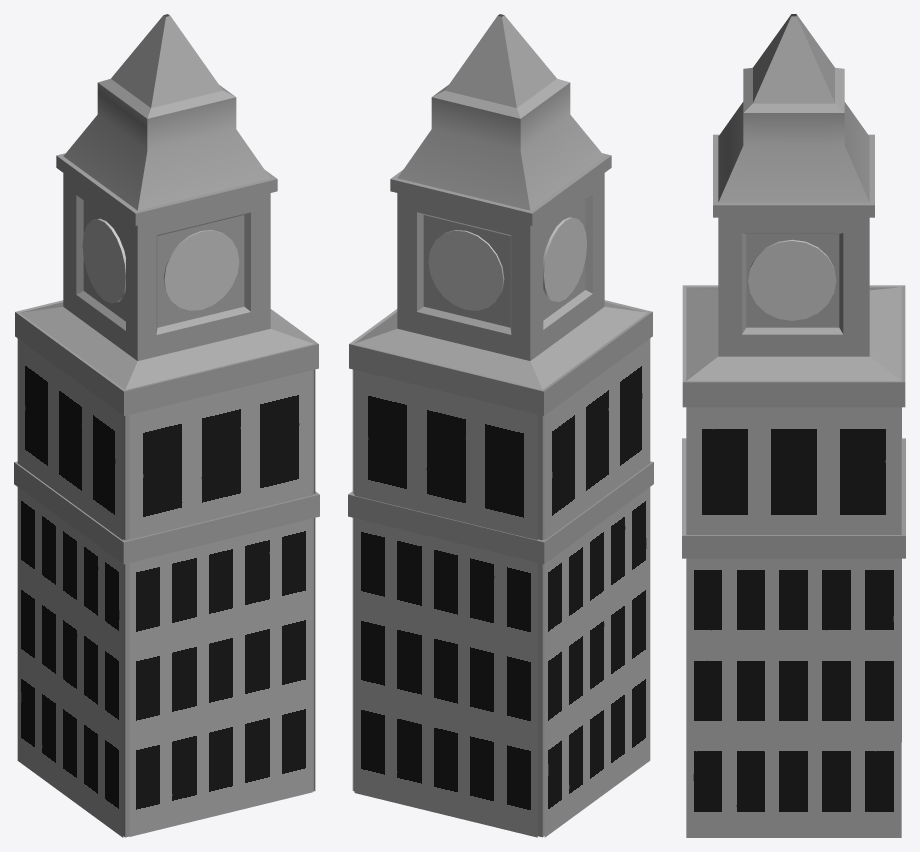
The model's file is Clocktower.fbx.
3 views of the same model, side by side, from view 1: azimuth 30°, elevation 25°; view 2: azimuth 150°, elevation 25°; view 3: azimuth 270°, elevation 25° (orthographic).
Parts seen in each view (by area): view 1: pCube244; view 2: pCube244; view 3: pCube244.
Boxes of the visible parts, <box> form: pCube244: <box>14,14,319,837</box>; pCube244: <box>348,14,653,837</box>; pCube244: <box>682,14,905,837</box>.
Size of the model in its own units: 27.59 by 102 by 26.72.
